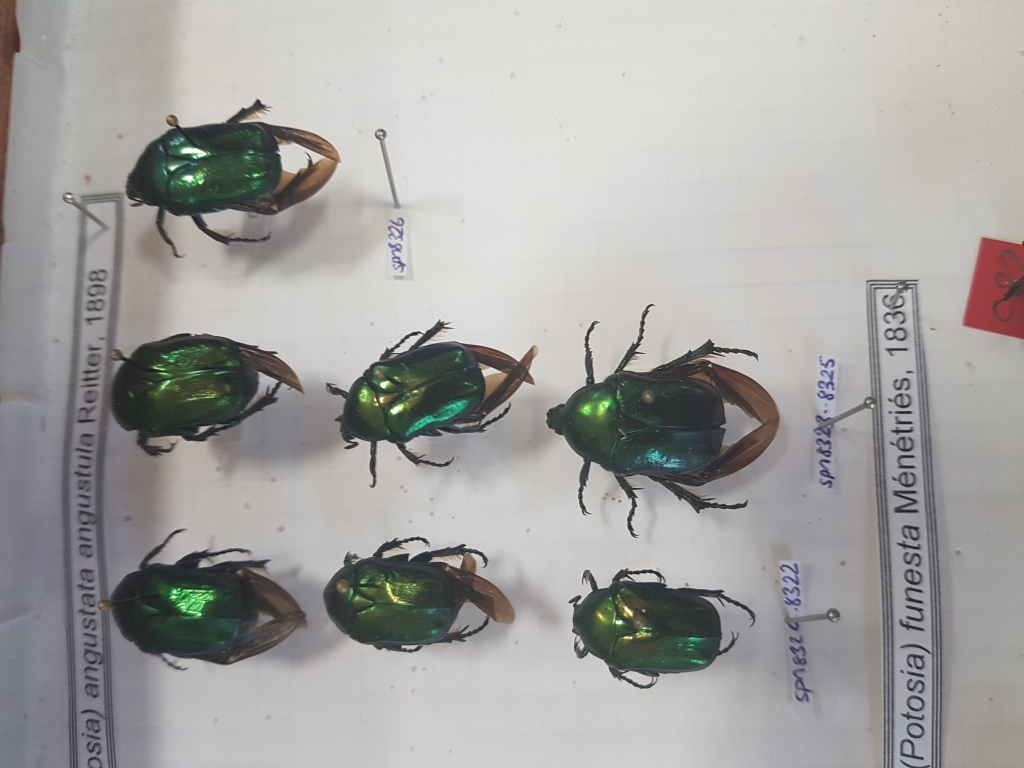Protaetia_angustata_angustata: (551, 300, 786, 540), (318, 308, 539, 483), (96, 507, 312, 681), (120, 91, 342, 258), (106, 319, 312, 479), (556, 548, 756, 694), (325, 525, 519, 668)
